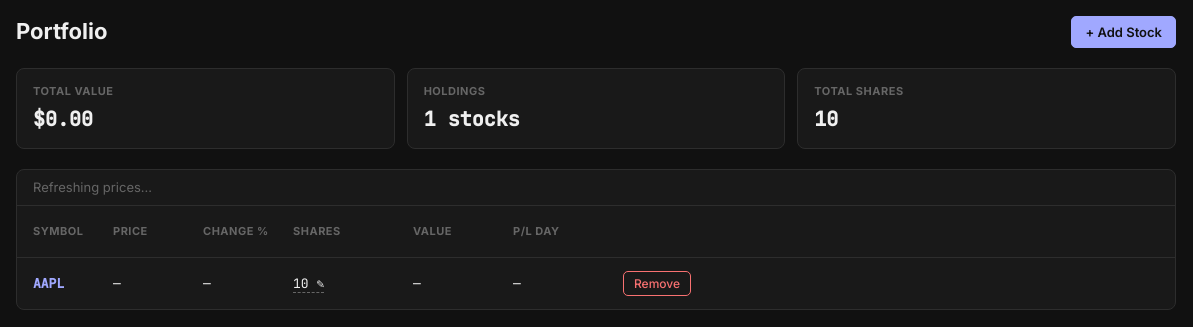
it: PortfolioPage - with holdings › removes a stock from the portfolio when Remove is clicked
The width and height of the screenshot is (1193, 327).
Click the button with aria-label "remove aapl" at (657, 284), box [623, 271, 691, 296]
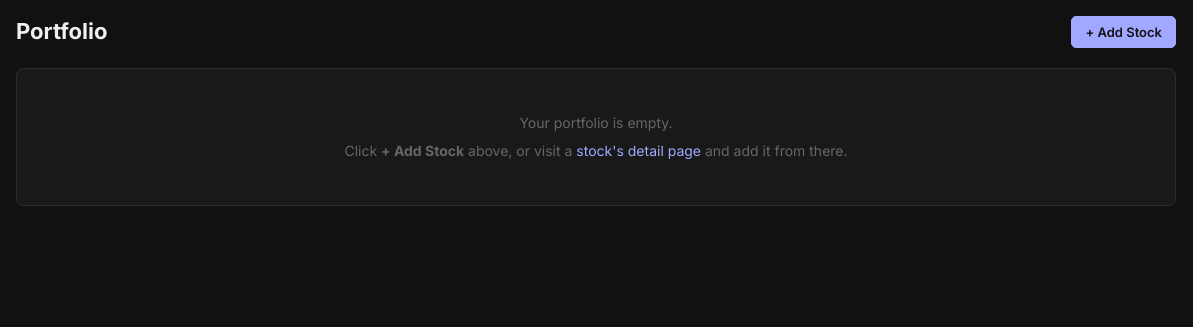
expect the text "Your portfolio is empty." is shown: met, box [519, 114, 672, 131]
